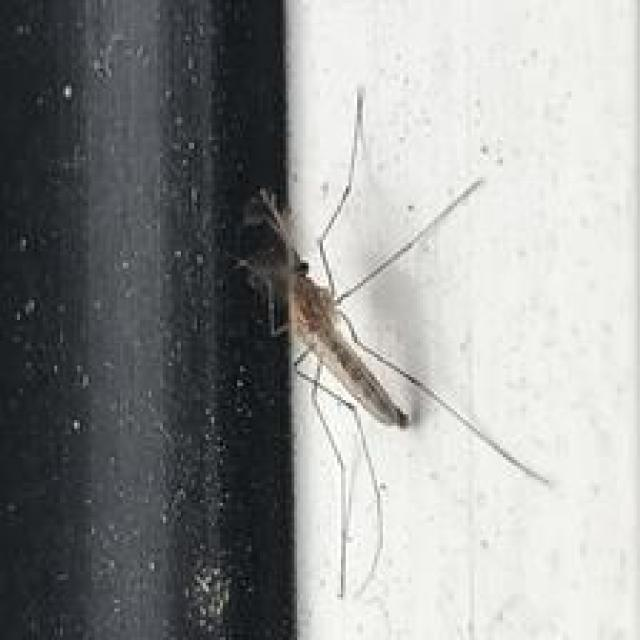Culex: (228, 86, 552, 600)
